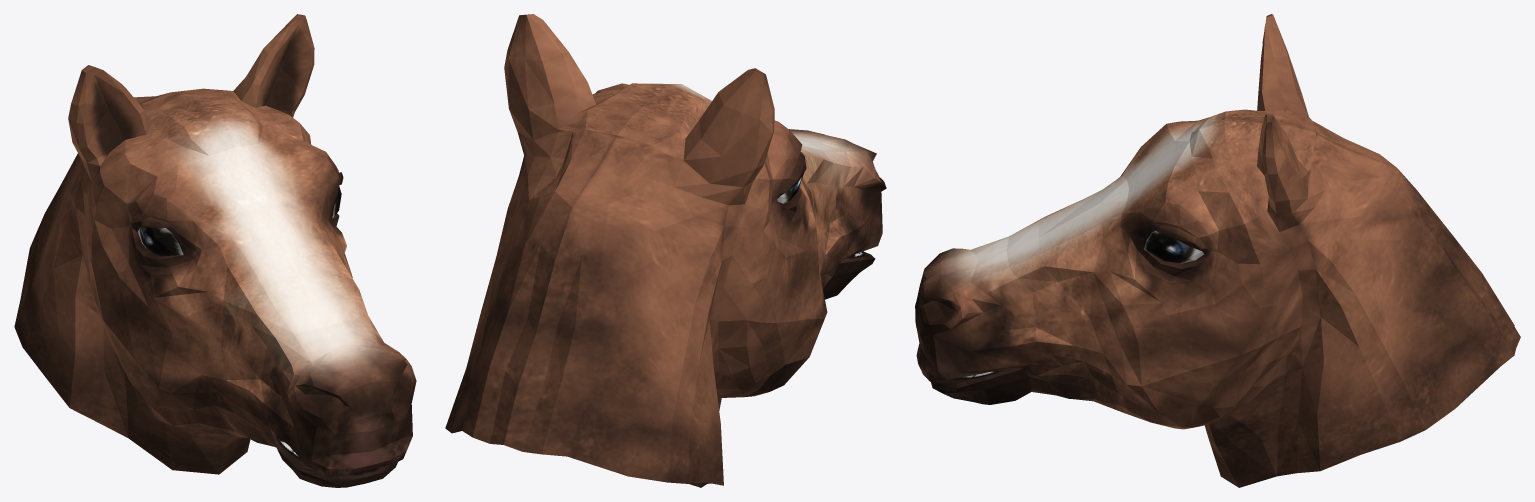
File: horse_head_r_morph.obj
3 renders of one model, left to right at view 1: azimuth 30°, elevation 25°; view 2: azimuth 150°, elevation 25°; view 3: azimuth 270°, elevation 25°, orthographic. The views are drawn at different scales.
Bounding box in the file's own units: 17.24 × 28.01 × 37.38.
Materials: 1 (1 with a texture image).
